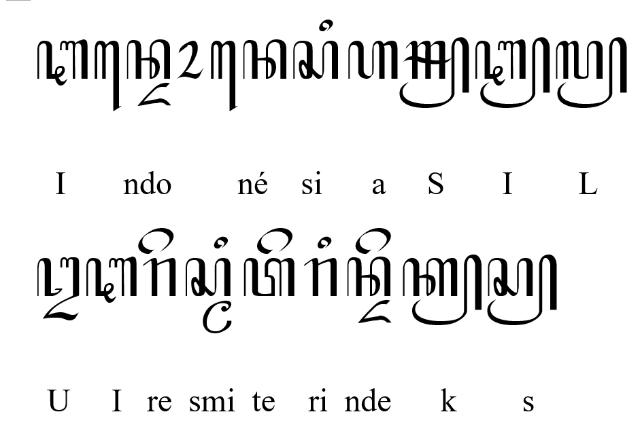-S: (400, 36, 470, 110)
-k: (402, 254, 482, 328)
-l: (554, 36, 628, 109)
-s: (486, 253, 558, 326)
I: (36, 38, 88, 88), (475, 36, 527, 86), (86, 256, 138, 304)
U: (37, 258, 81, 322)
_d: (136, 82, 172, 106), (358, 301, 392, 325)
_m: (202, 300, 232, 334)
e: (355, 227, 393, 255), (255, 227, 292, 255), (138, 228, 174, 256)
e1: (94, 39, 122, 112), (210, 40, 238, 112)
h: (347, 40, 399, 80)
i: (318, 18, 334, 32), (316, 236, 332, 250), (214, 237, 228, 250)
n: (126, 39, 172, 80), (346, 256, 390, 298), (243, 39, 287, 80)
o: (176, 41, 204, 80)
r: (303, 256, 337, 298), (143, 258, 177, 298)
s: (292, 41, 340, 80), (185, 258, 231, 296)
t: (243, 258, 295, 298)
